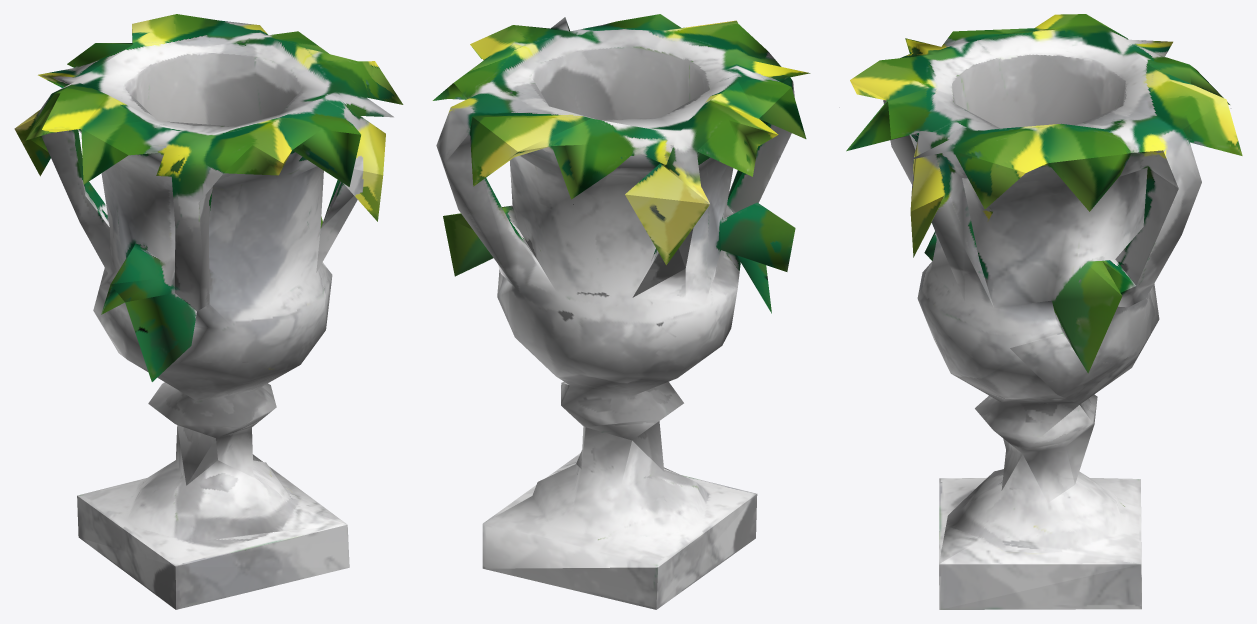
Rendered from marble-pedestal-urn.glb.
The picture shows the model from 3 angles, left to right: view 1: azimuth 30°, elevation 25°; view 2: azimuth 150°, elevation 25°; view 3: azimuth 270°, elevation 25°; orthographic projection. The views are drawn at different scales.
Parts seen in each view (by area): view 1: geometry_0.001; view 2: geometry_0.001; view 3: geometry_0.001.
Boxes of the visible parts, left/top/right/bottom form: geometry_0.001: left=14, top=14, right=403, bottom=609; geometry_0.001: left=432, top=14, right=810, bottom=609; geometry_0.001: left=846, top=14, right=1242, bottom=609.
Bounding box in the file's own units: 0.7162 × 0.9973 × 0.7447.
1 material, 1 textured.
